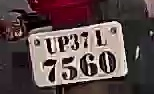0: (99, 50, 117, 77)
3: (69, 32, 82, 52)
5: (59, 55, 80, 81)
6: (78, 52, 99, 77)
7: (37, 56, 60, 84), (77, 28, 92, 51)
L: (95, 31, 110, 49)
P: (57, 33, 70, 54)
U: (45, 37, 59, 57)
